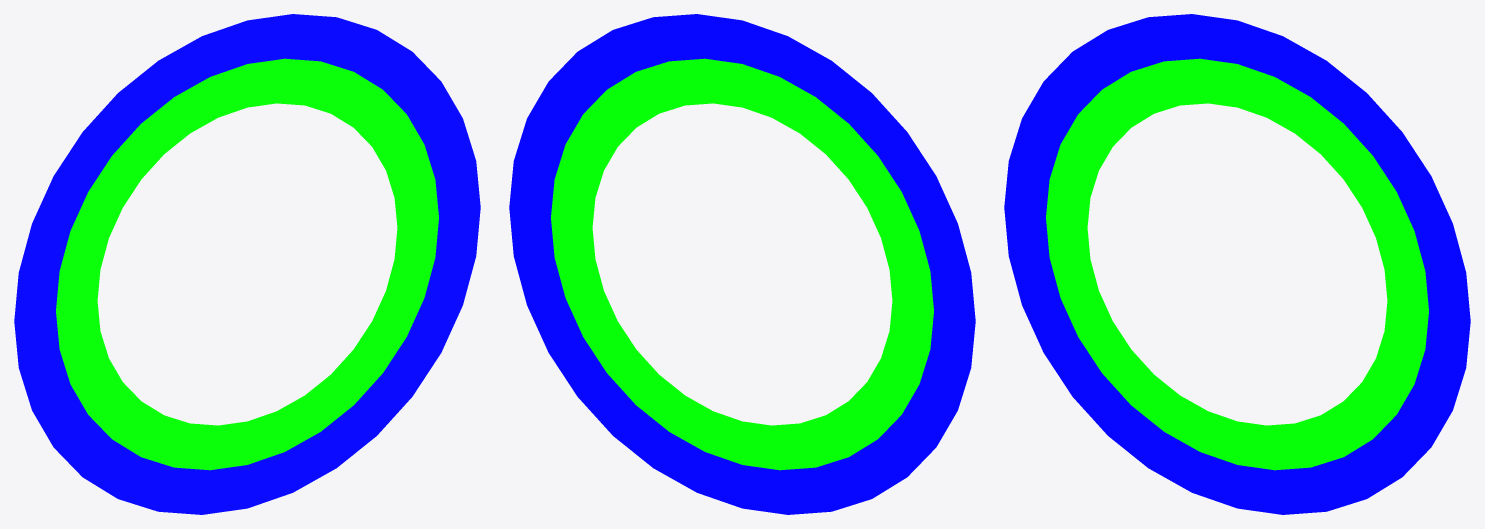
File: sc_emission.dae
3 renders of one model, left to right at view 1: azimuth 30°, elevation 25°; view 2: azimuth 150°, elevation 25°; view 3: azimuth 330°, elevation 25°, orthographic.
Bounding box in the file's own units: 56 × 56 × 0.
